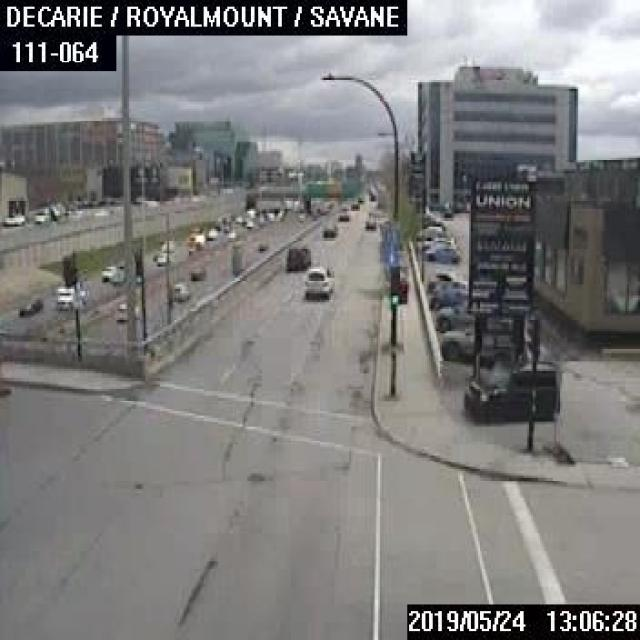vehicle: (464, 360, 558, 421), (440, 323, 524, 364), (436, 298, 474, 329), (302, 264, 335, 297), (430, 279, 466, 308), (429, 268, 467, 287), (418, 232, 457, 250), (422, 242, 458, 261), (284, 244, 310, 270), (16, 296, 42, 318), (55, 283, 76, 307), (172, 279, 187, 298), (113, 300, 125, 322), (100, 264, 116, 280), (321, 220, 336, 234), (110, 270, 124, 282), (156, 252, 168, 265), (362, 214, 374, 227), (190, 264, 202, 276), (161, 237, 173, 249)
